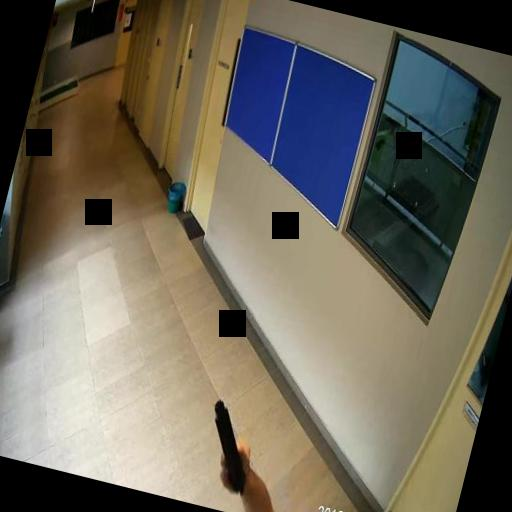Handgun: (194, 396, 264, 496)
